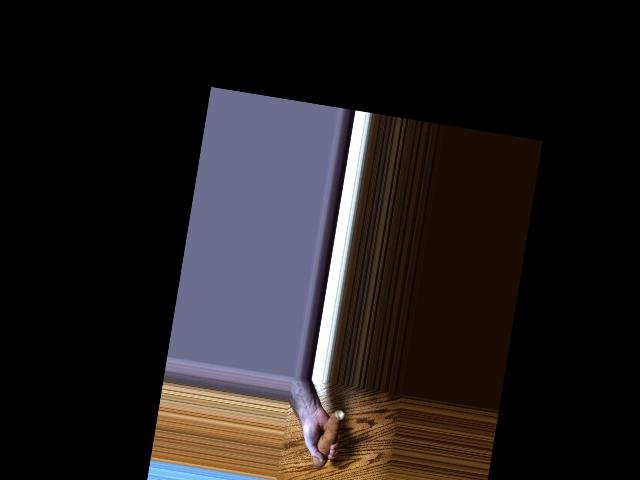sweet_potato: (309, 401, 343, 465)
